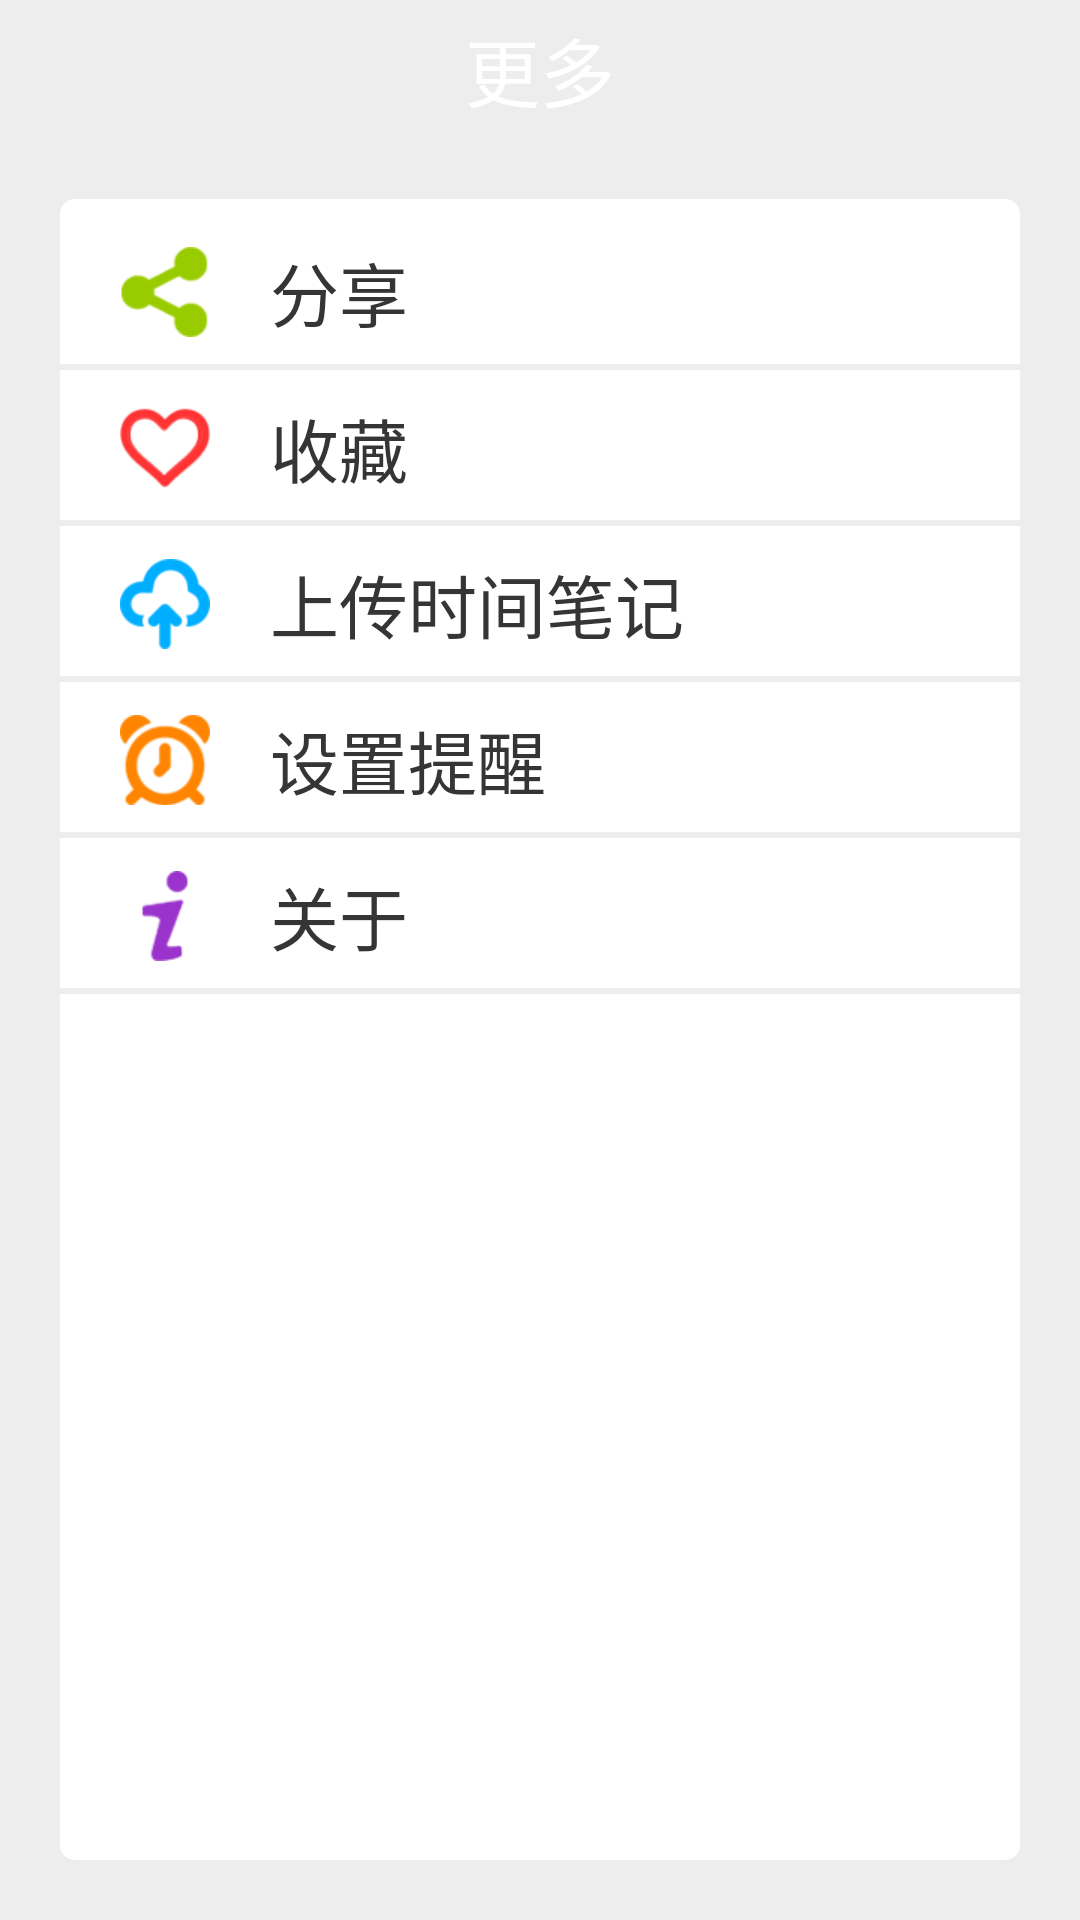

Named icons in this screenshot (1080px×1920px) and their centers, point (x, y):
about: point (165, 916)
alarm: point (165, 760)
collection: point (165, 447)
share: point (164, 292)
upload: point (165, 604)
